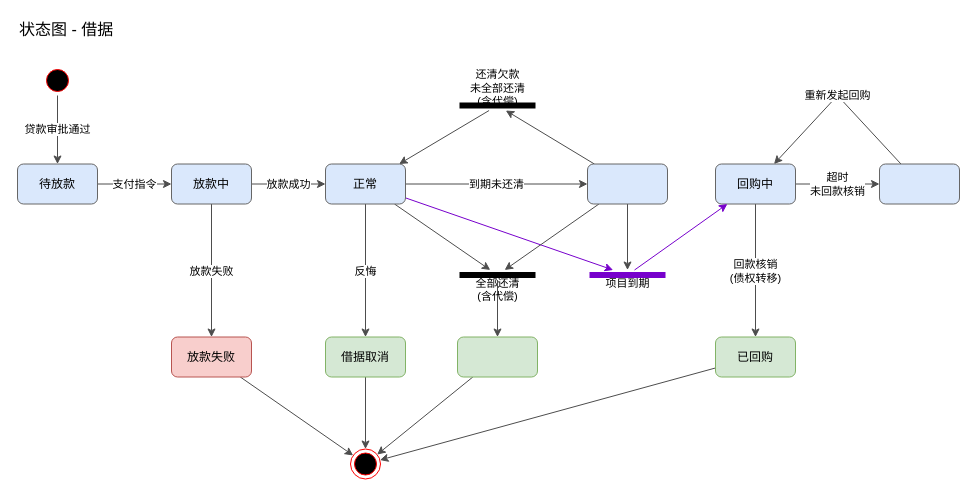
Some shapes in this 977 by 496 pixel diagram are drawn without their labels. The centre of each missing label's shape, as x and y in pixels:
"回购失败" goes at [919,183].
"结清" goes at [497,356].
"逾期" goes at [627,183].
